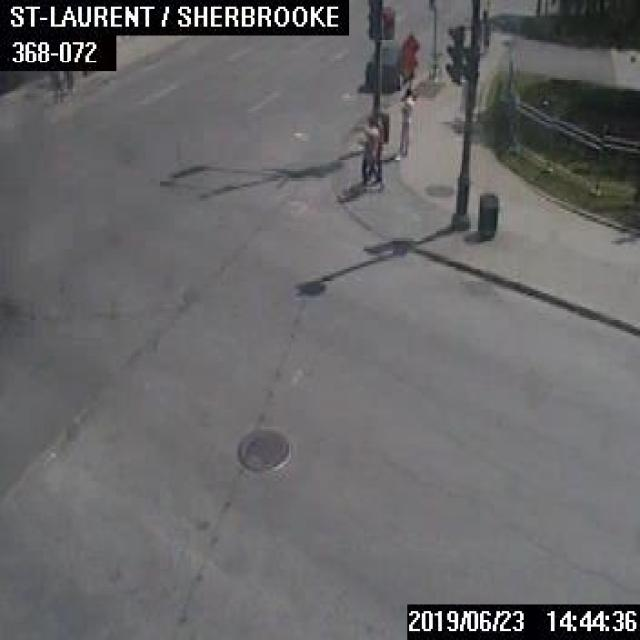construction: (399, 32, 419, 99)
pedestrian: (395, 82, 413, 155), (360, 115, 378, 187), (362, 114, 382, 178)
vehicle: (364, 45, 416, 91)
